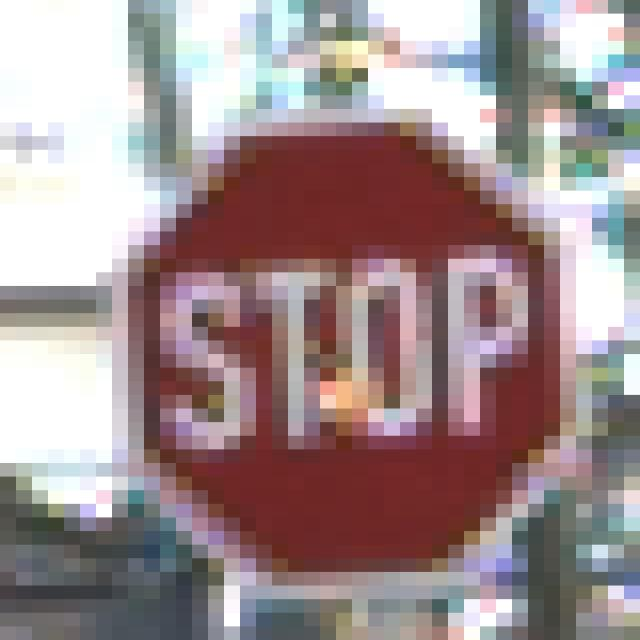STOP: (81, 69, 561, 573)
